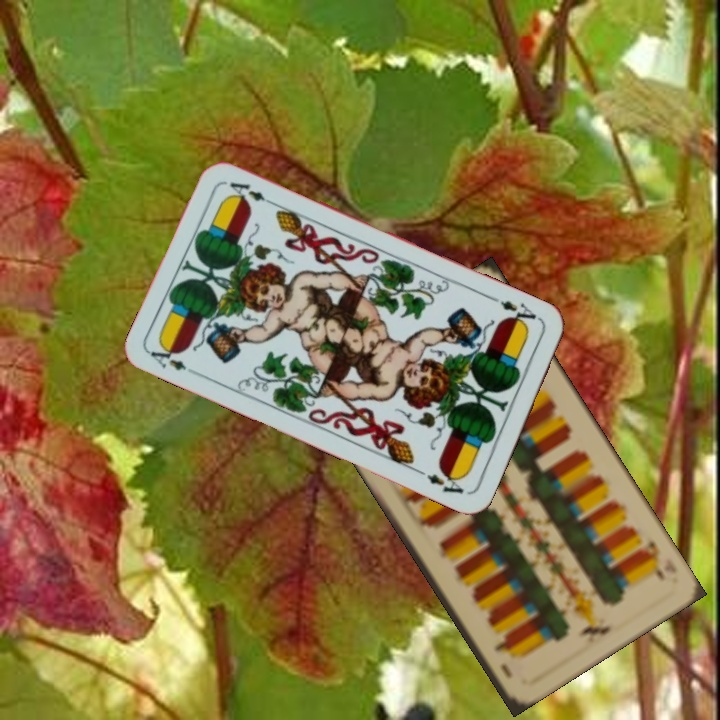E10: (636, 536, 667, 584)
EA: (488, 292, 544, 330), (146, 339, 189, 374)
